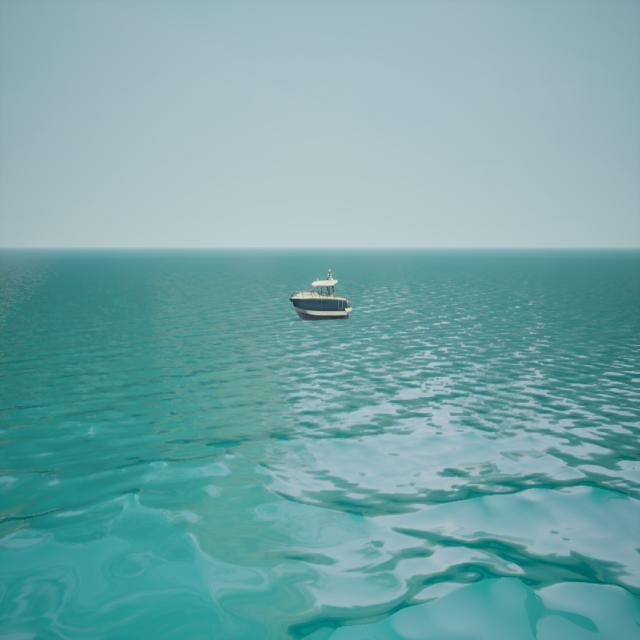ship: (289, 266, 352, 319)
